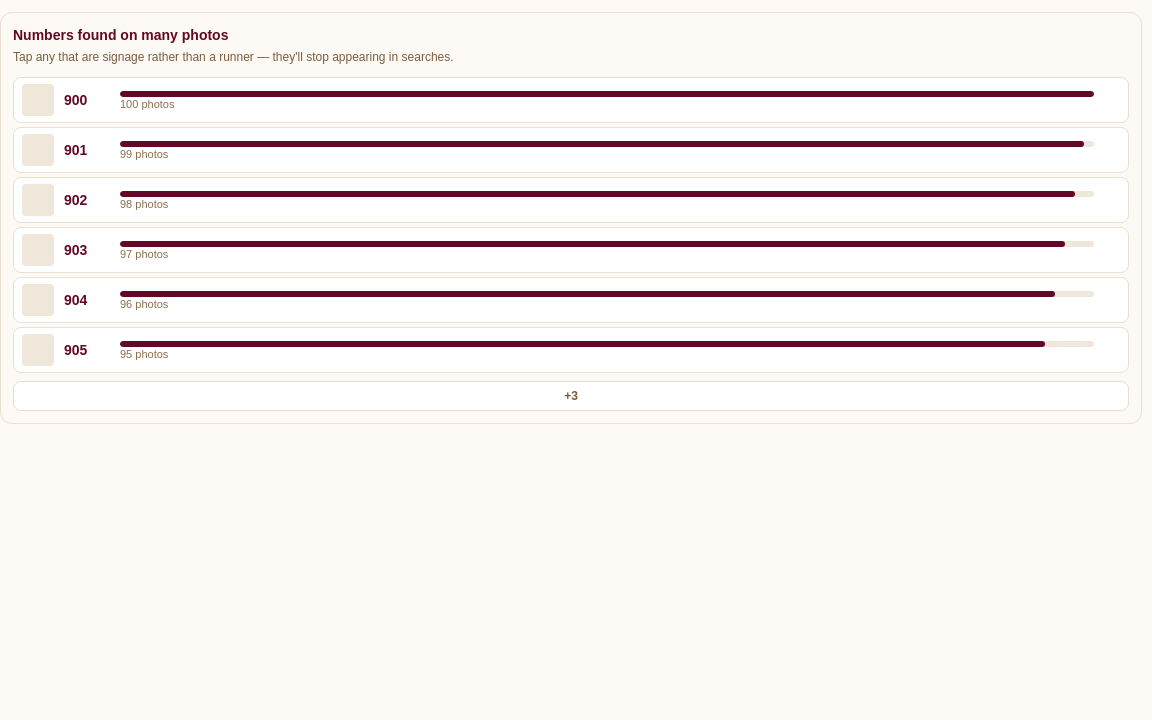
every row is reachable, including past the fold › shows the rest when it is tapped
Click the button "+3".
click(571, 396)  # box [13, 381, 1129, 411]
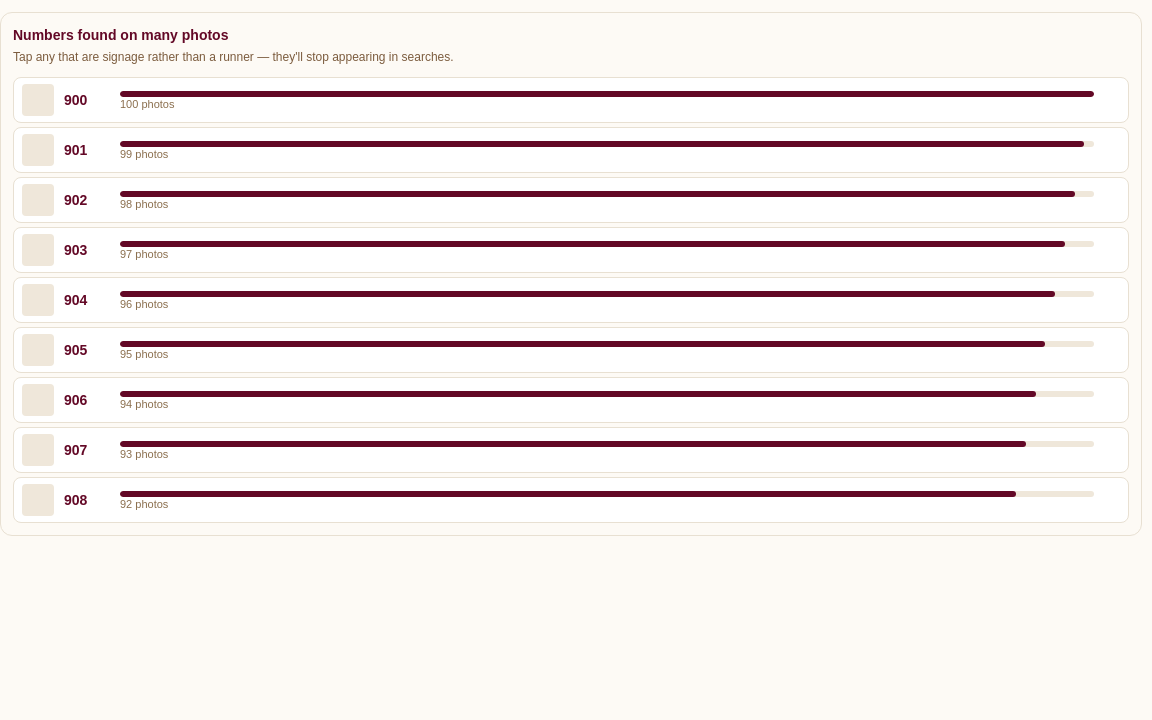
Expected: the button "908 92 photos" is shown, [13, 477, 1129, 523]
